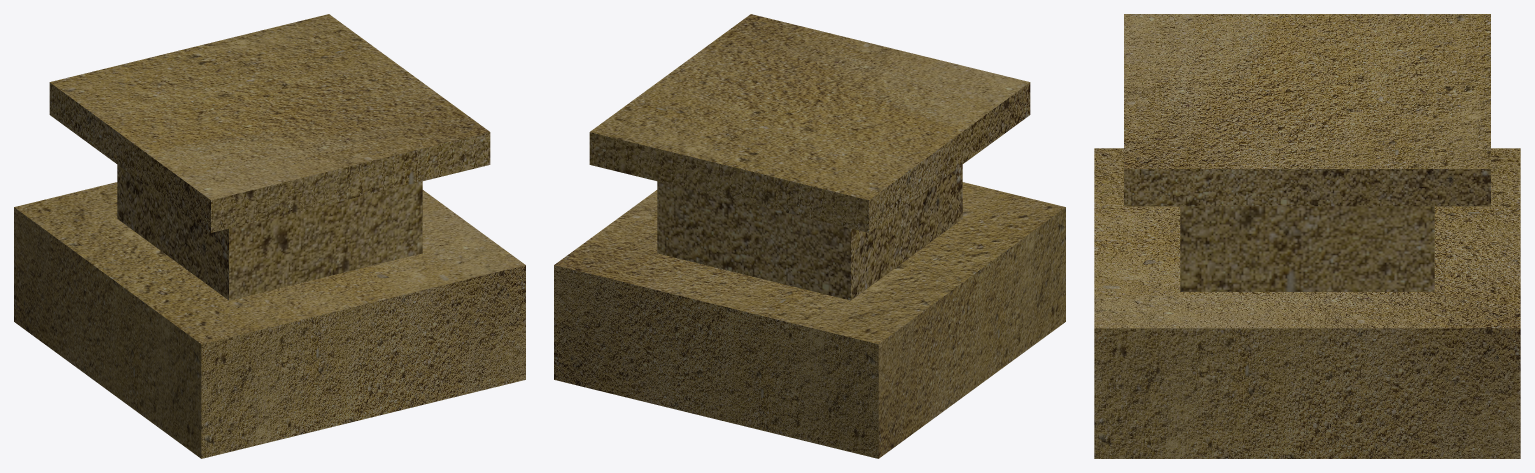
The model's file is SandTable.glb.
The picture shows the model from 3 angles, left to right: view 1: azimuth 30°, elevation 25°; view 2: azimuth 150°, elevation 25°; view 3: azimuth 270°, elevation 25°; orthographic projection. The views are drawn at different scales.
Parts seen in each view (by area): view 1: SolidFloor; view 2: SolidFloor; view 3: SolidFloor.
Part boxes in pixels (left/top/right/bottom): SolidFloor: left=14, top=14, right=525, bottom=458; SolidFloor: left=554, top=14, right=1065, bottom=458; SolidFloor: left=1094, top=14, right=1520, bottom=458.
Bounding box in the file's own units: 2 × 1.44 × 2.
Materials: 1 (1 with a texture image).
